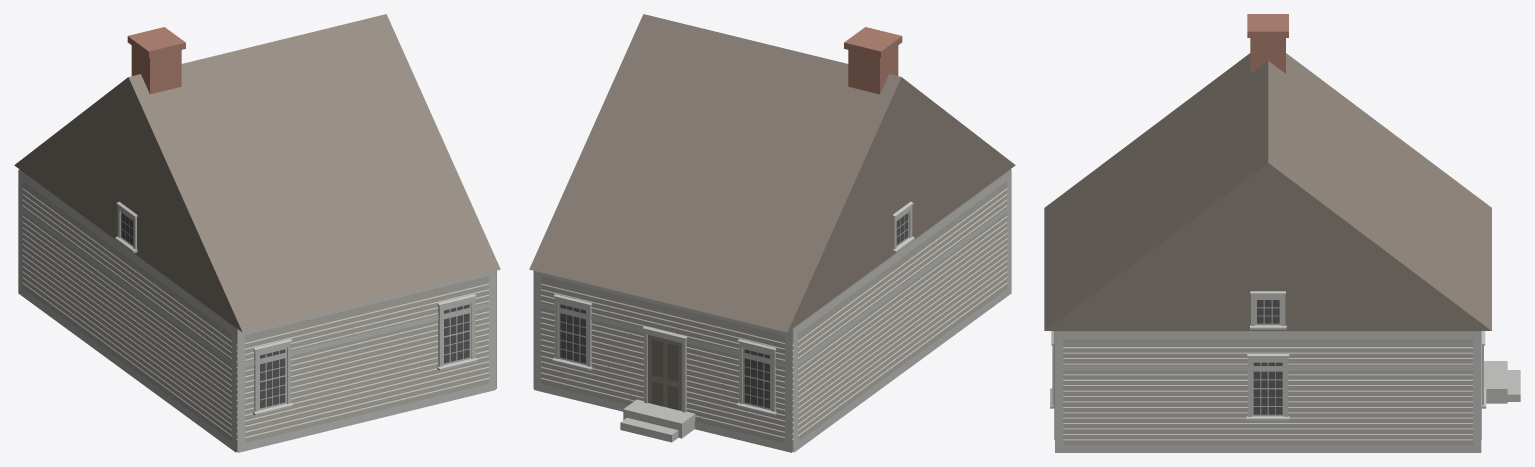
Rendered from recon_1835_blk_school_section_tier_95_d6_06__inferred_1835.glb.
3 views of the same model, side by side, from view 1: azimuth 30°, elevation 25°; view 2: azimuth 150°, elevation 25°; view 3: azimuth 270°, elevation 25° (orthographic). The views are drawn at different scales.
Parts seen in each view (by area): view 1: recon_1835_blk_school_section_tier_95_d6_06__inferred_1835; view 2: recon_1835_blk_school_section_tier_95_d6_06__inferred_1835; view 3: recon_1835_blk_school_section_tier_95_d6_06__inferred_1835.
Boxes of the visible parts, x1=… form: recon_1835_blk_school_section_tier_95_d6_06__inferred_1835: x1=14, y1=14, x2=500, y2=452; recon_1835_blk_school_section_tier_95_d6_06__inferred_1835: x1=529, y1=14, x2=1015, y2=452; recon_1835_blk_school_section_tier_95_d6_06__inferred_1835: x1=1044, y1=14, x2=1520, y2=452.
Bounding box in the file's own units: 7.07 × 8.27 × 11.15.
